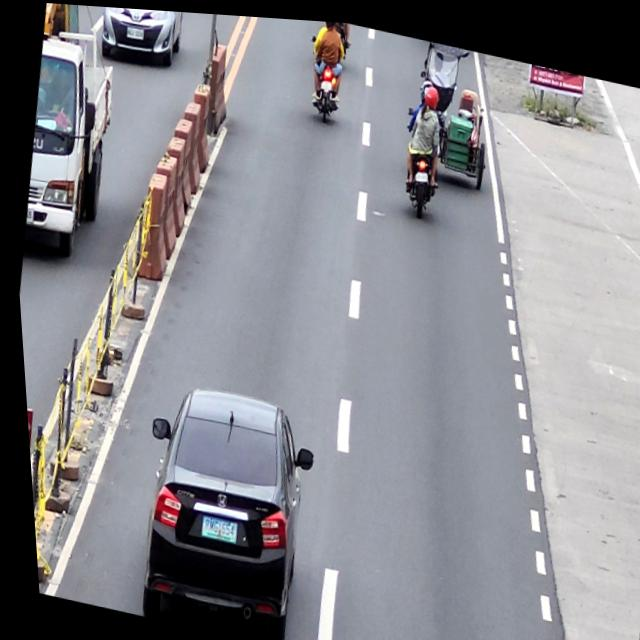Car: (113, 372, 325, 640)
License-Plate: (191, 513, 232, 542), (413, 166, 426, 178), (319, 75, 332, 87)
Motorcycle: (390, 98, 448, 216), (299, 29, 352, 122)
Tricycle: (405, 57, 499, 189)
